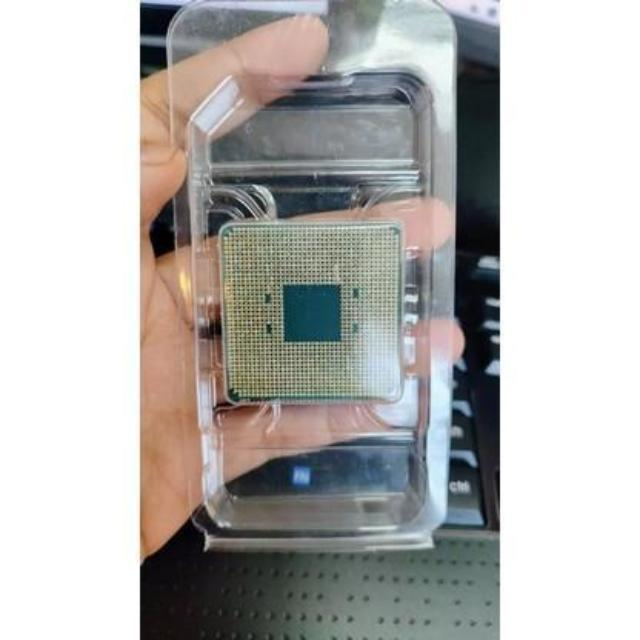CPU: (218, 225, 404, 404)
